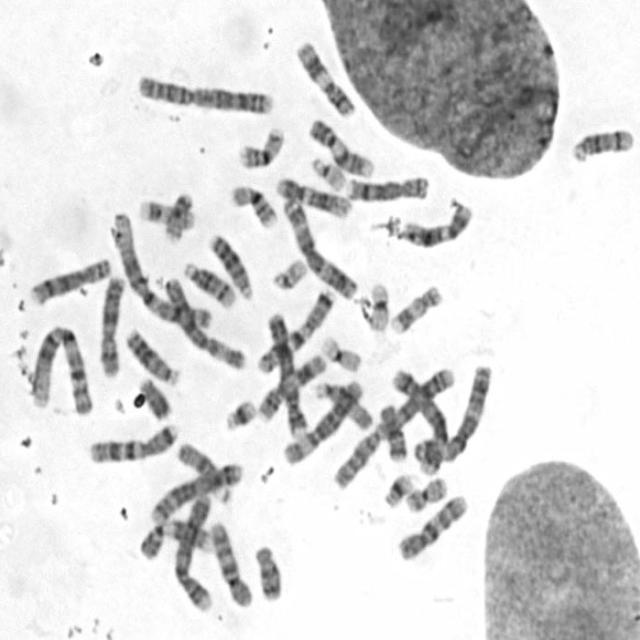A1: (106, 206, 216, 330), (27, 319, 96, 416)
A2: (328, 359, 456, 492), (133, 66, 278, 116)
A3: (413, 358, 495, 472), (278, 191, 360, 300)
B4: (264, 304, 311, 440), (170, 488, 216, 614)
B5: (388, 363, 452, 475), (146, 457, 246, 525)
C10: (392, 488, 470, 564), (205, 515, 255, 609)
C11: (291, 34, 358, 119), (256, 348, 330, 423)
C12: (396, 196, 475, 249), (271, 171, 354, 219)
C6: (159, 270, 248, 372), (279, 373, 366, 466)
C7: (253, 282, 336, 374), (85, 415, 182, 465)
C8: (24, 251, 114, 307), (343, 168, 432, 204)
C9: (304, 111, 377, 178), (134, 512, 217, 562)
D13: (120, 322, 181, 387), (205, 226, 256, 301)
D14: (568, 121, 636, 165), (180, 256, 237, 308)
D15: (173, 436, 234, 504), (311, 375, 374, 432)
E16: (226, 178, 280, 230), (234, 120, 288, 170)
E17: (386, 278, 445, 335), (134, 192, 197, 230)
E18: (250, 540, 285, 602), (376, 397, 408, 463)
F19: (317, 329, 364, 373), (362, 276, 392, 333)
F20: (401, 471, 450, 514), (160, 186, 196, 244)
G21: (221, 392, 259, 432), (380, 468, 416, 510)
G22: (307, 150, 348, 192), (268, 252, 310, 292)
X: (95, 270, 127, 379)
Y: (135, 371, 174, 421)
